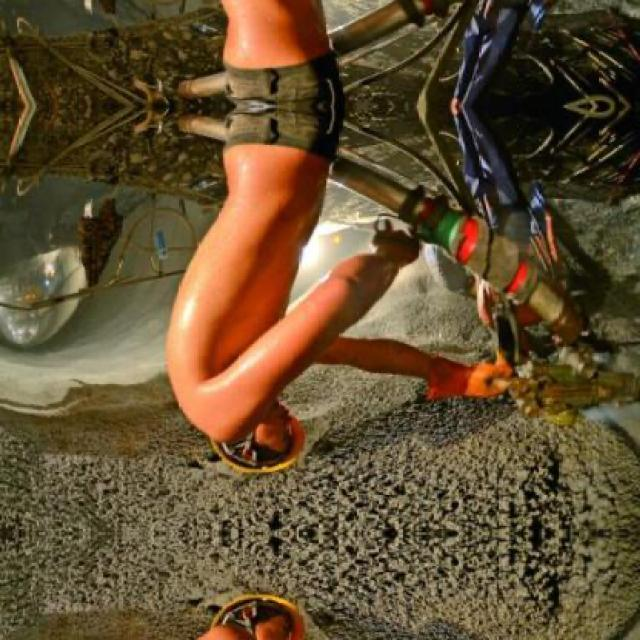con casco: (168, 367, 314, 516)
